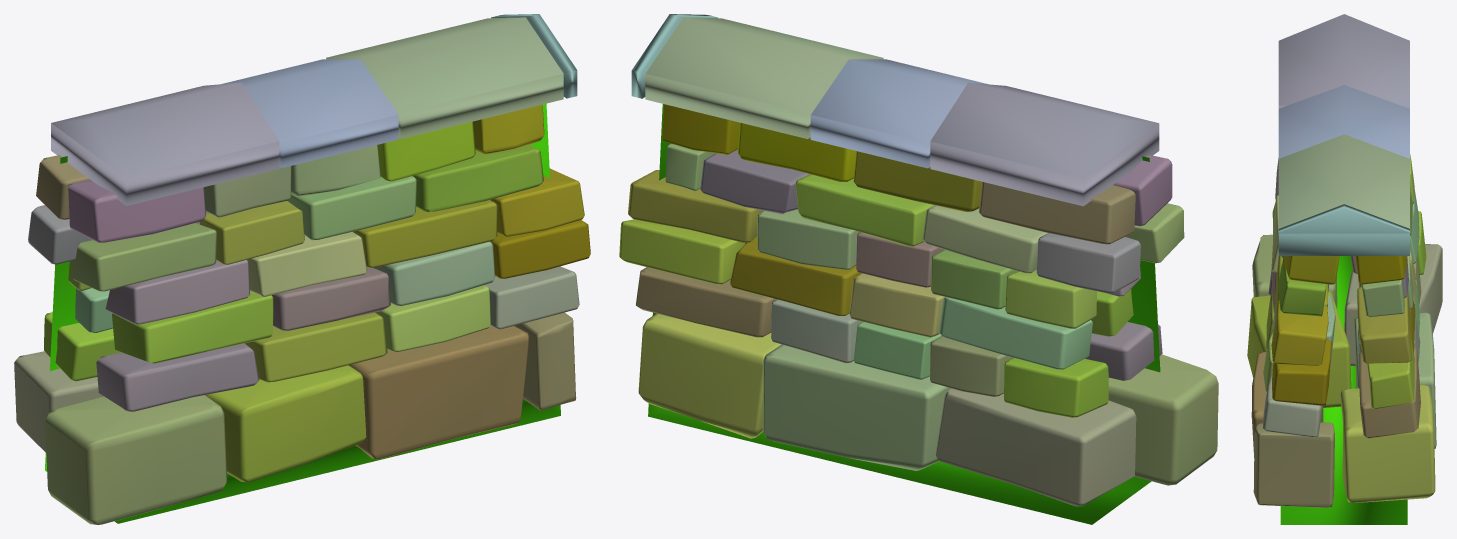
Rendered from SM_Prop_wall_stone_21.glb.
3 views of the same model, side by side, from view 1: azimuth 30°, elevation 25°; view 2: azimuth 150°, elevation 25°; view 3: azimuth 270°, elevation 25° (orthographic). The views are drawn at different scales.
Parts seen in each view (by area): view 1: SM_Prop_wall_stone_21; view 2: SM_Prop_wall_stone_21; view 3: SM_Prop_wall_stone_21.
Boxes of the visible parts, x1,y1,x2,y2 form: SM_Prop_wall_stone_21: [14, 14, 590, 524]; SM_Prop_wall_stone_21: [619, 14, 1218, 524]; SM_Prop_wall_stone_21: [1247, 14, 1442, 524].
Size of the model in its own units: 2.28 by 1.59 by 0.8613.
